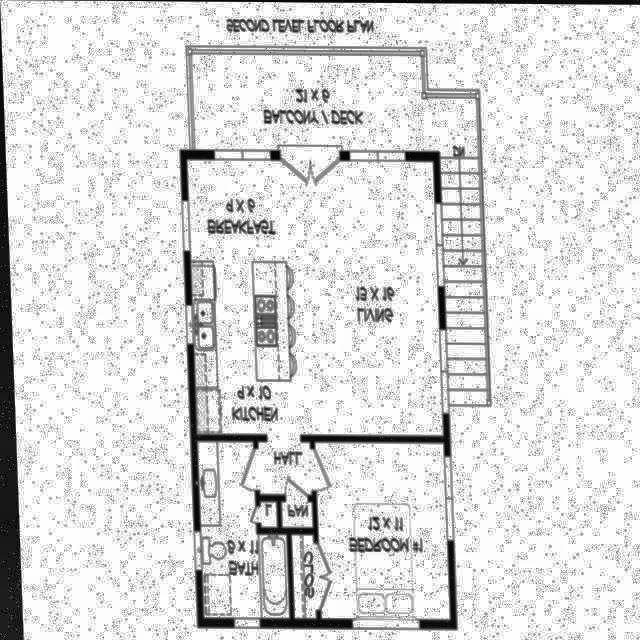room: (184, 153, 440, 441), (310, 437, 445, 623), (192, 438, 285, 621), (254, 442, 309, 527), (286, 532, 311, 618), (256, 502, 274, 528)
